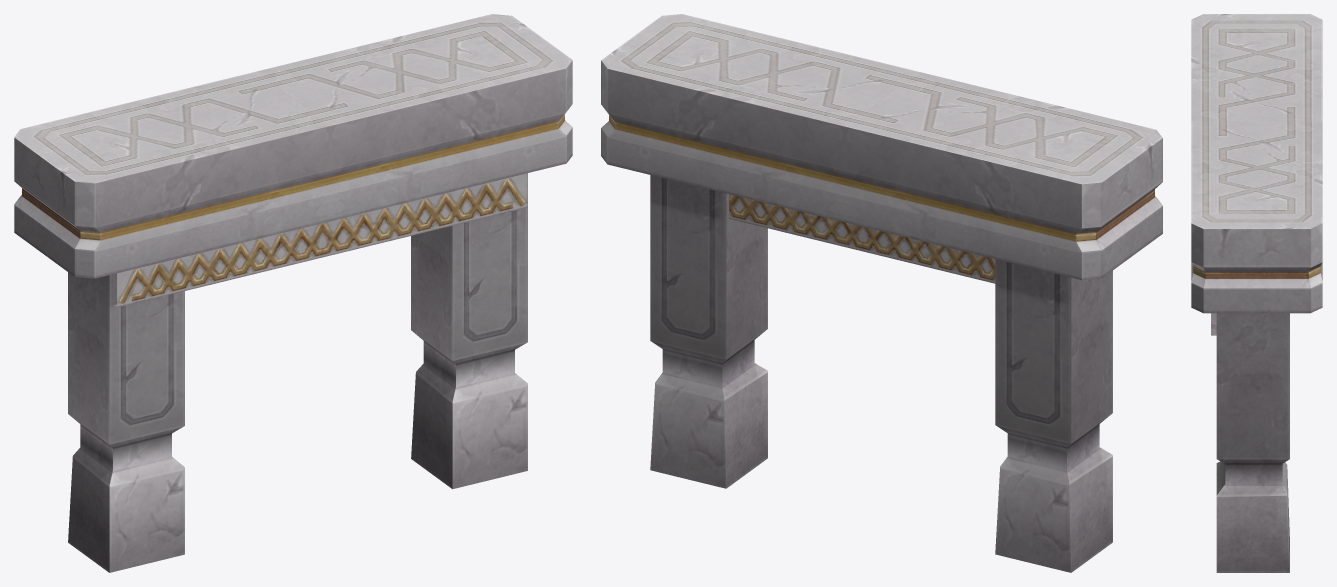
Rendered from men_01.FBX.
The picture shows the model from 3 angles, left to right: view 1: azimuth 30°, elevation 25°; view 2: azimuth 150°, elevation 25°; view 3: azimuth 270°, elevation 25°; orthographic projection. The views are drawn at different scales.
Visible parts, largest first — view 1: men_01; view 2: men_01; view 3: men_01.
Boxes of the visible parts, bbox=[...] form: men_01: bbox=[14, 14, 572, 572]; men_01: bbox=[601, 14, 1162, 572]; men_01: bbox=[1191, 14, 1322, 572].
Bounding box in the file's own units: 1081 × 844 × 279.
